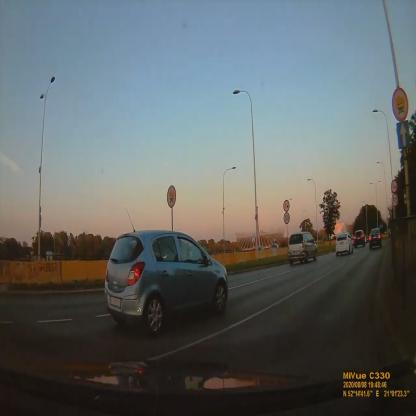cars: (104, 231, 228, 336), (288, 231, 317, 265), (336, 233, 354, 256), (369, 228, 382, 249), (354, 231, 365, 247)
